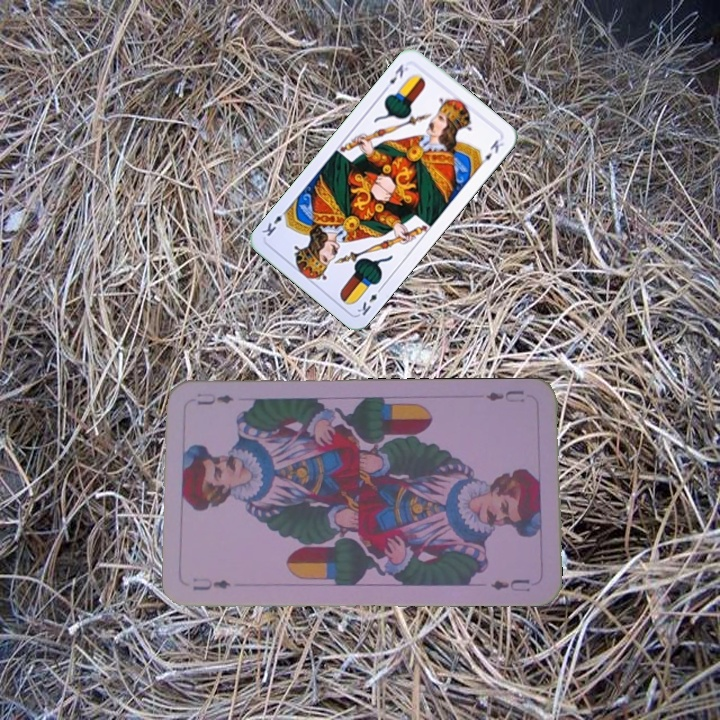EK: (353, 282, 385, 318), (380, 60, 411, 94)
EU: (189, 574, 234, 593), (482, 386, 526, 405)
